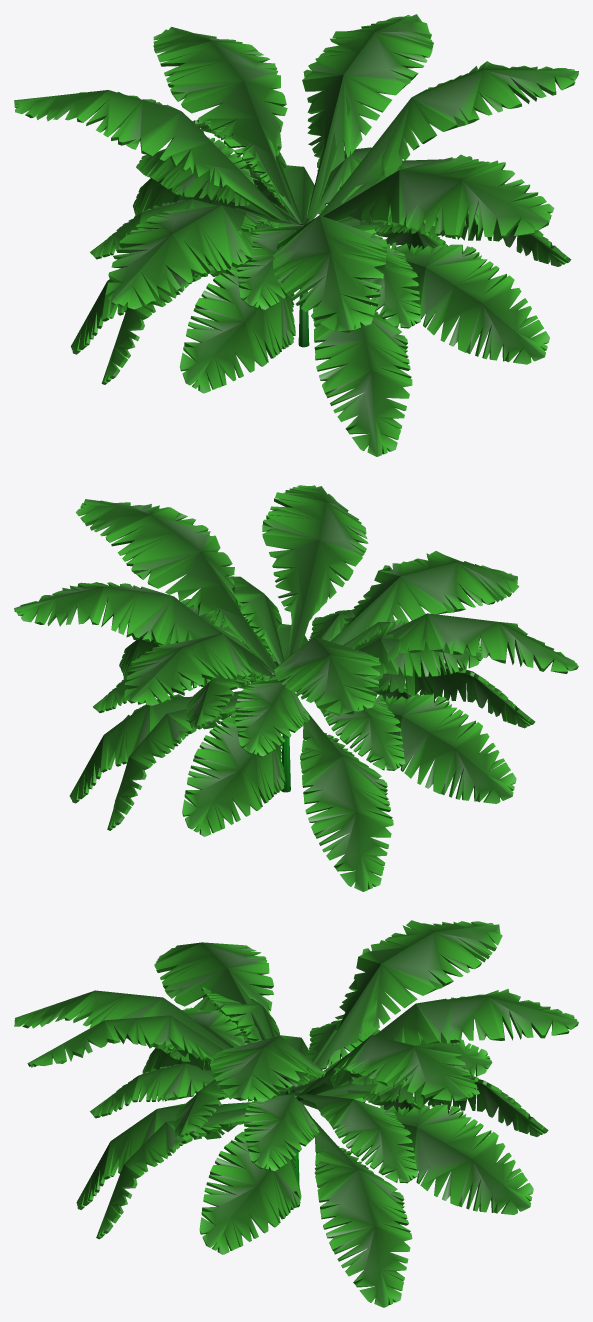
Rendered from palmbush1.fbx.
3 renders of one model, top to bottom at view 1: azimuth 30°, elevation 25°; view 2: azimuth 150°, elevation 25°; view 3: azimuth 270°, elevation 25°, orthographic. The views are drawn at different scales.
Visible parts, largest first — view 1: palm_bush; view 2: palm_bush; view 3: palm_bush.
Boxes of the visible parts, <box> form: palm_bush: <box>14,14,578,456</box>; palm_bush: <box>14,485,578,891</box>; palm_bush: <box>14,920,578,1307</box>.
Size of the model in its own units: 6.22 by 6.43 by 3.15.
